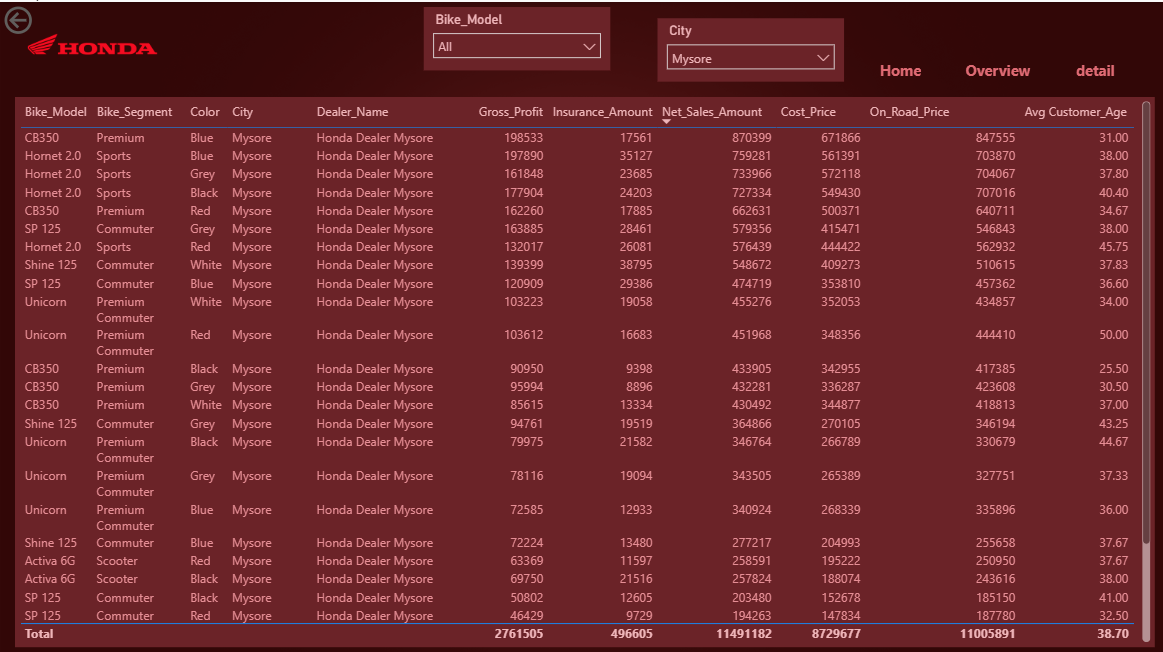

The page's visual inventory and layout, read from the dashboard file:
{"tool":"powerbi","page":{"name":"detail","canvas":[1280,720],"ordinal":2},"visuals":[{"type":"image","box":[0,0,207.2,104.3],"z":0},{"type":"tableEx","fields":{"Values":["Honda.Bike_Model","Honda.Bike_Segment","Honda.Color","Honda.City","Honda.Dealer_Name","Sum(Honda.Gross_Profit)","Sum(Honda.Insurance_Amount)","Sum(Honda.Net_Sales_Amount)","Sum(Honda.Cost_Price)","Sum(Honda.On_Road_Price)","Avg(Honda.Customer_Age)"]},"box":[16.5,104.3,1251.5,603.8],"z":1000},{"type":"actionButton","box":[0,0,100,40],"z":2000},{"type":"slicer","fields":{"Values":["Honda.Bike_Model"]},"box":[465.2,5.5,204.5,70],"z":3000},{"type":"slicer","fields":{"Values":["Honda.City"]},"box":[721.8,17.8,204.5,70],"z":4000},{"type":"pageNavigator","box":[940,52.1,311.5,45.3],"z":5000}]}

Visuals, with their boxes in screenshot pixels (x1, y1, x2, y2), scaled from the page's 1280x720 canvas onto the 1163x652 screenshot:
image: region(0, 0, 188, 94)
tableEx - Honda.Bike_Model x Honda.Bike_Segment: region(15, 94, 1152, 641)
actionButton: region(0, 0, 91, 36)
slicer - Honda.Bike_Model: region(423, 5, 608, 68)
slicer - Honda.City: region(656, 16, 842, 80)
pageNavigator: region(854, 47, 1137, 88)
